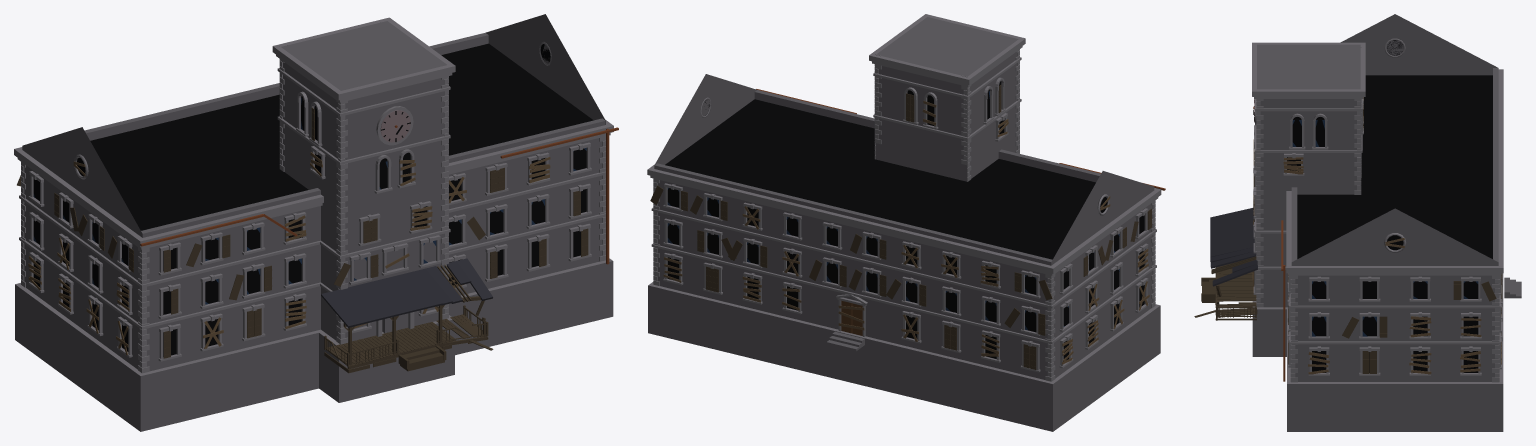
Rendered from SM_Abandoned_Dorm.fbx.
3 renders of one model, left to right at view 1: azimuth 30°, elevation 25°; view 2: azimuth 150°, elevation 25°; view 3: azimuth 270°, elevation 25°, orthographic. The views are drawn at different scales.
Visible parts, largest first — view 1: SM_Abandoned_Dorm; view 2: SM_Abandoned_Dorm; view 3: SM_Abandoned_Dorm.
Boxes of the visible parts, bbox=[...] form: SM_Abandoned_Dorm: bbox=[14, 14, 618, 431]; SM_Abandoned_Dorm: bbox=[647, 14, 1165, 431]; SM_Abandoned_Dorm: bbox=[1194, 14, 1521, 431].
Size of the model in its own units: 41.2 by 25.53 by 28.46.
